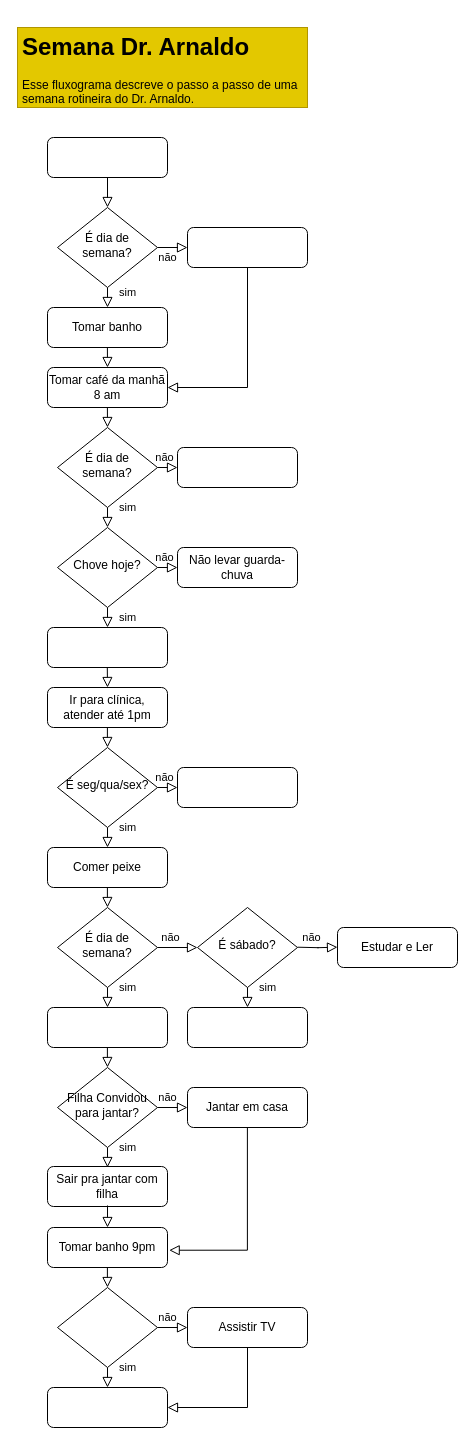
This 475x1445 diagram has some shape labels left out. Each missing label, with the centre of its shape:
"Arrumar a casa" goes at point (247, 247).
"Assistir filmes" goes at point (247, 1027).
"Assistir TV até 1pm" goes at point (237, 467).
"Comer/salada" goes at point (237, 787).
"Dormir" goes at point (107, 1407).
"Dr. Arnaldo 7am" goes at point (107, 157).
"Está cansado?" goes at point (107, 1327).
"Levar guarda-chuva" goes at point (107, 647).
"Trabalhar até as 6pm" goes at point (107, 1027).
